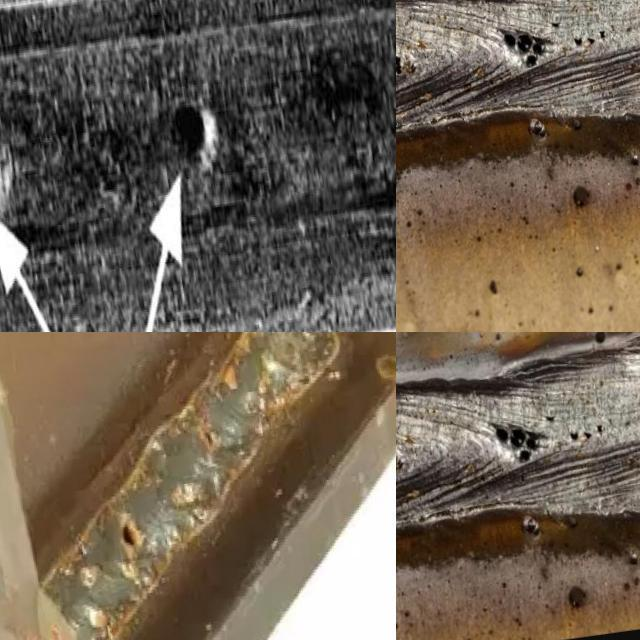defect: (160, 72, 226, 165), (488, 419, 552, 468), (500, 25, 553, 73), (570, 25, 610, 49), (566, 422, 606, 445), (120, 515, 139, 549), (198, 419, 217, 449), (396, 49, 407, 81), (592, 332, 607, 345), (544, 413, 556, 422)
